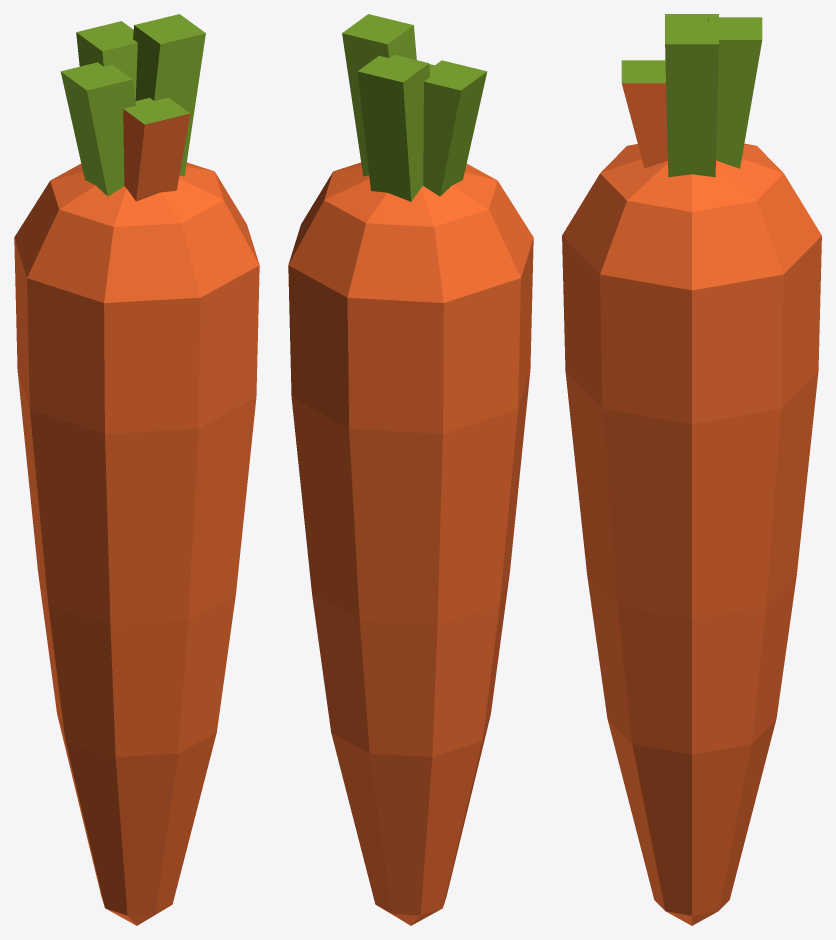
The model's file is Carrot.fbx.
3 renders of one model, left to right at view 1: azimuth 30°, elevation 25°; view 2: azimuth 150°, elevation 25°; view 3: azimuth 270°, elevation 25°, orthographic. The views are drawn at different scales.
Visible parts, largest first — view 1: Carrot; view 2: Carrot; view 3: Carrot.
Boxes of the visible parts, x1,y1,x2,y2 form: Carrot: (14,14,259,925); Carrot: (288,14,533,925); Carrot: (562,14,821,925).
Size of the model in its own units: 0.06 by 0.06 by 0.2316.
